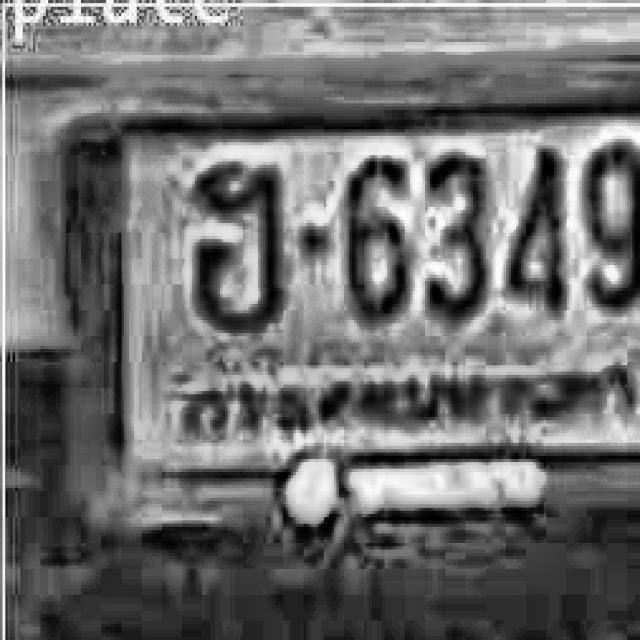license-plate: (60, 90, 640, 536)
